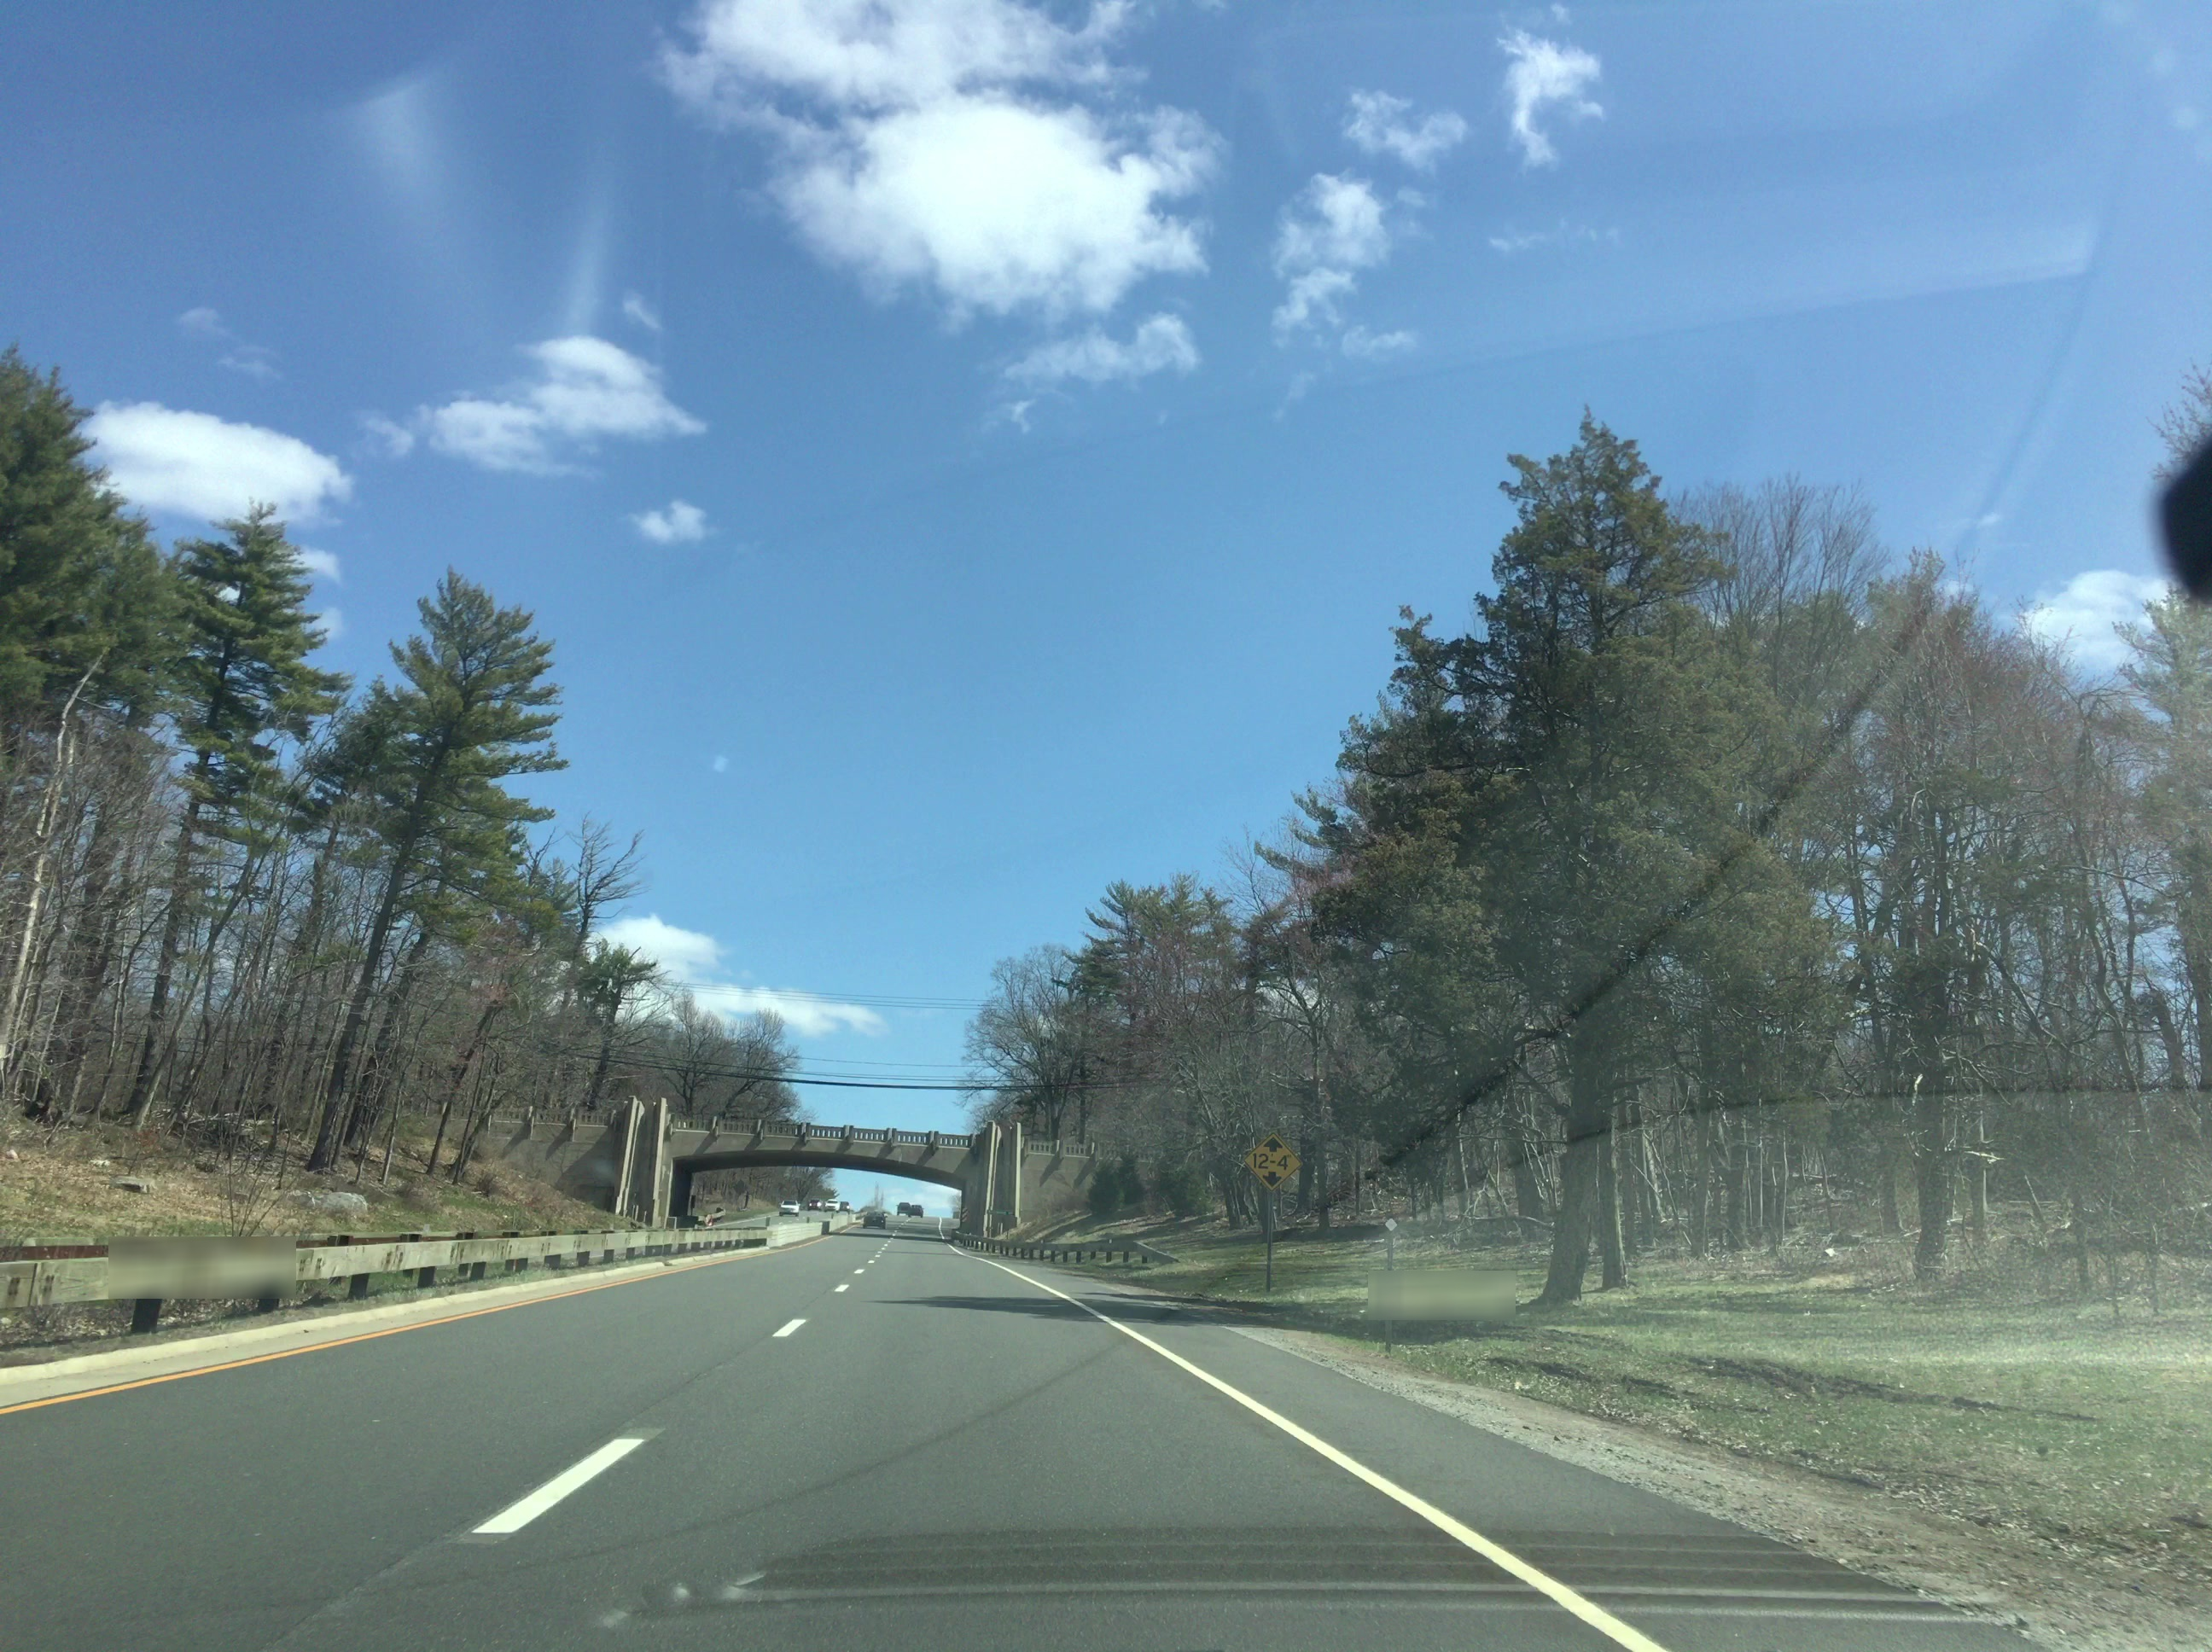low-clearance-sign: (1244, 1131, 1303, 1192)
